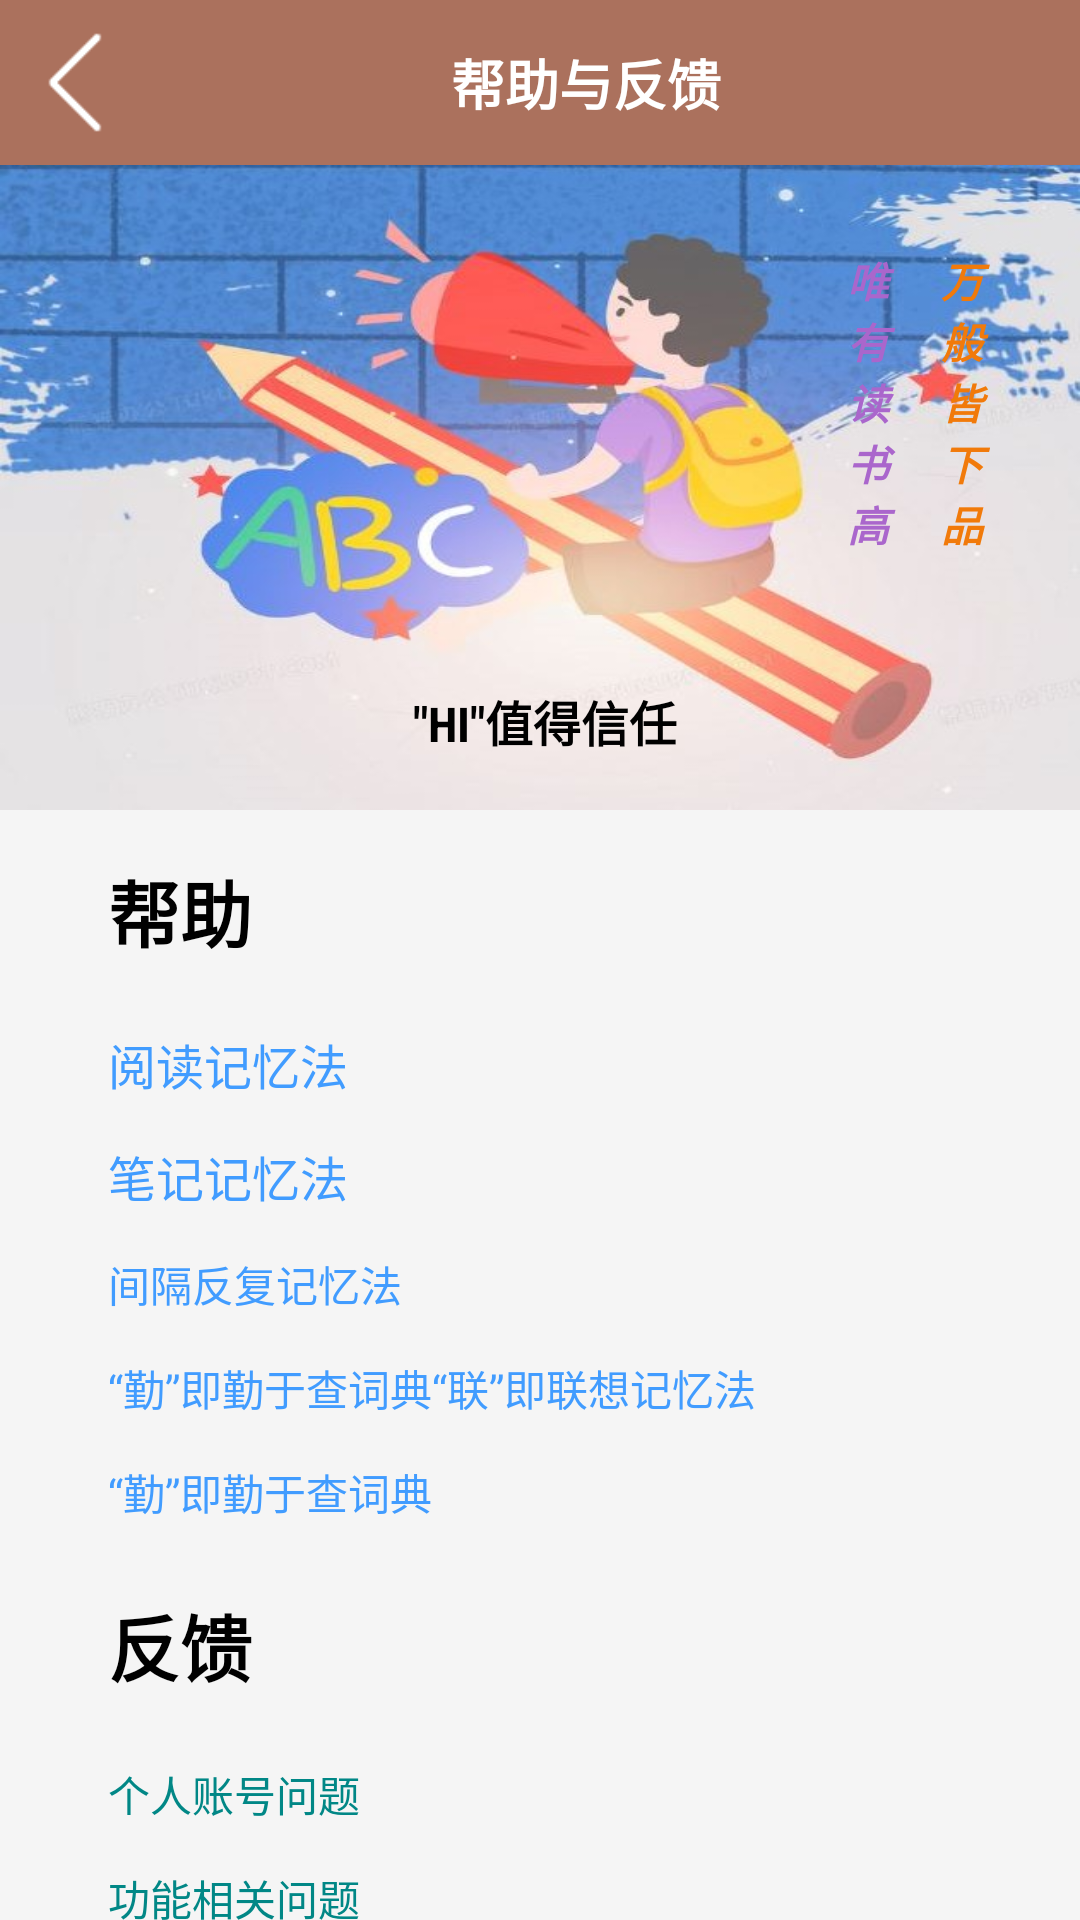

Icons on this 1080px×1920px Android screen, each with its box as detection(x1, y1, x2, y2):
backs: detection(49, 33, 101, 132)
